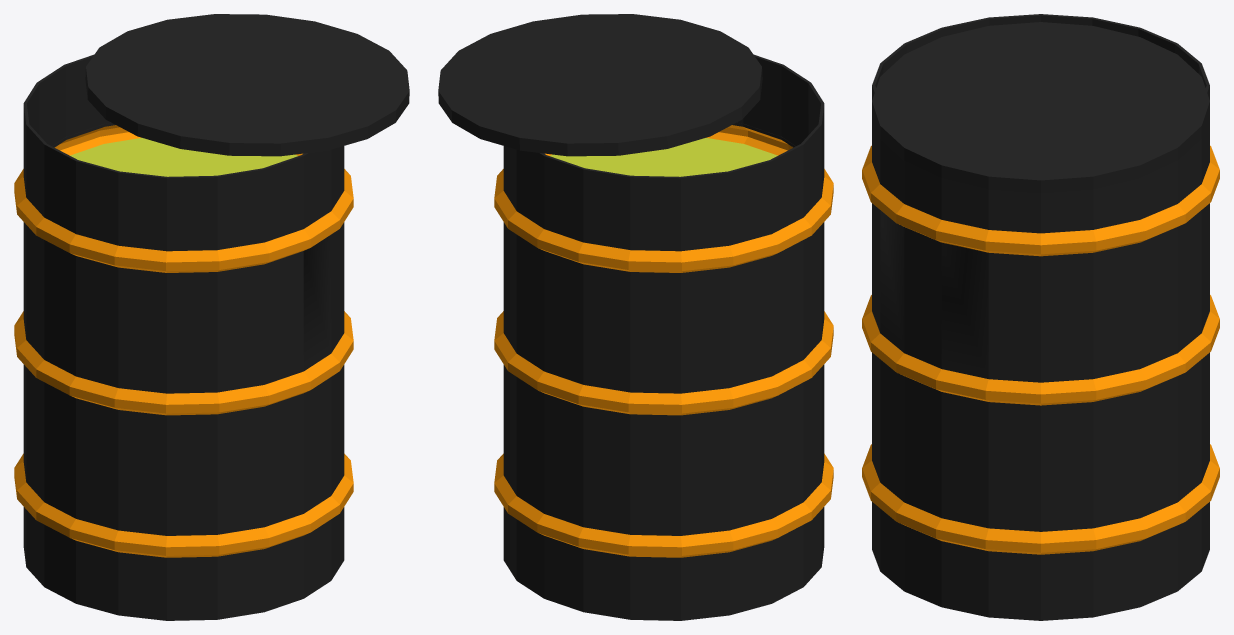
Rendered from openbarrel.glb.
3 views of the same model, side by side, from view 1: azimuth 30°, elevation 25°; view 2: azimuth 150°, elevation 25°; view 3: azimuth 270°, elevation 25° (orthographic). The views are drawn at different scales.
Parts seen in each view (by area): view 1: openbarrel; view 2: openbarrel; view 3: openbarrel.
Boxes of the visible parts, x1,y1,x2,y2 form: openbarrel: (14,14,409,620); openbarrel: (438,14,833,620); openbarrel: (862,14,1219,620).
Size of what is drawn, in the model's own units: 1.26 by 1.59 by 1.06.
1 material, 1 textured.
